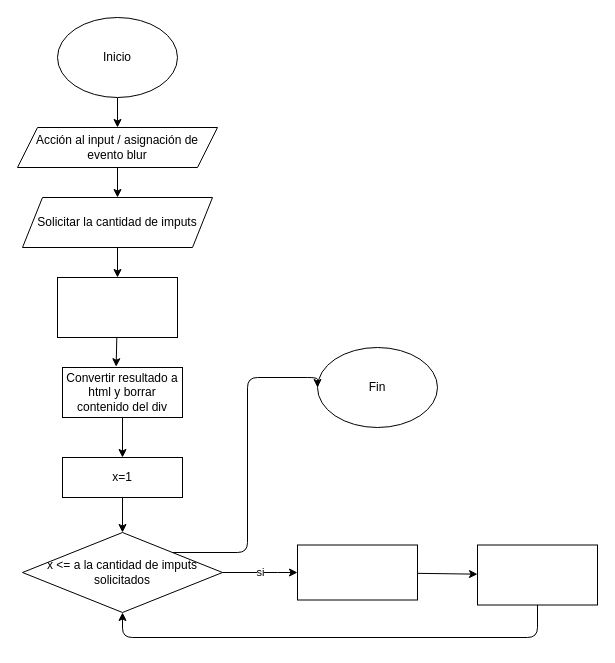
Image size: 615x663. Some labels were removed from this diagram. Here are the shapes that lost their labels. From the top down, the centre of each, then its label:
At pixel 117 307: "Capturar div contenedor de inputs".
At pixel 357 572: "Crear inputs".
At pixel 537 574: "x++".
